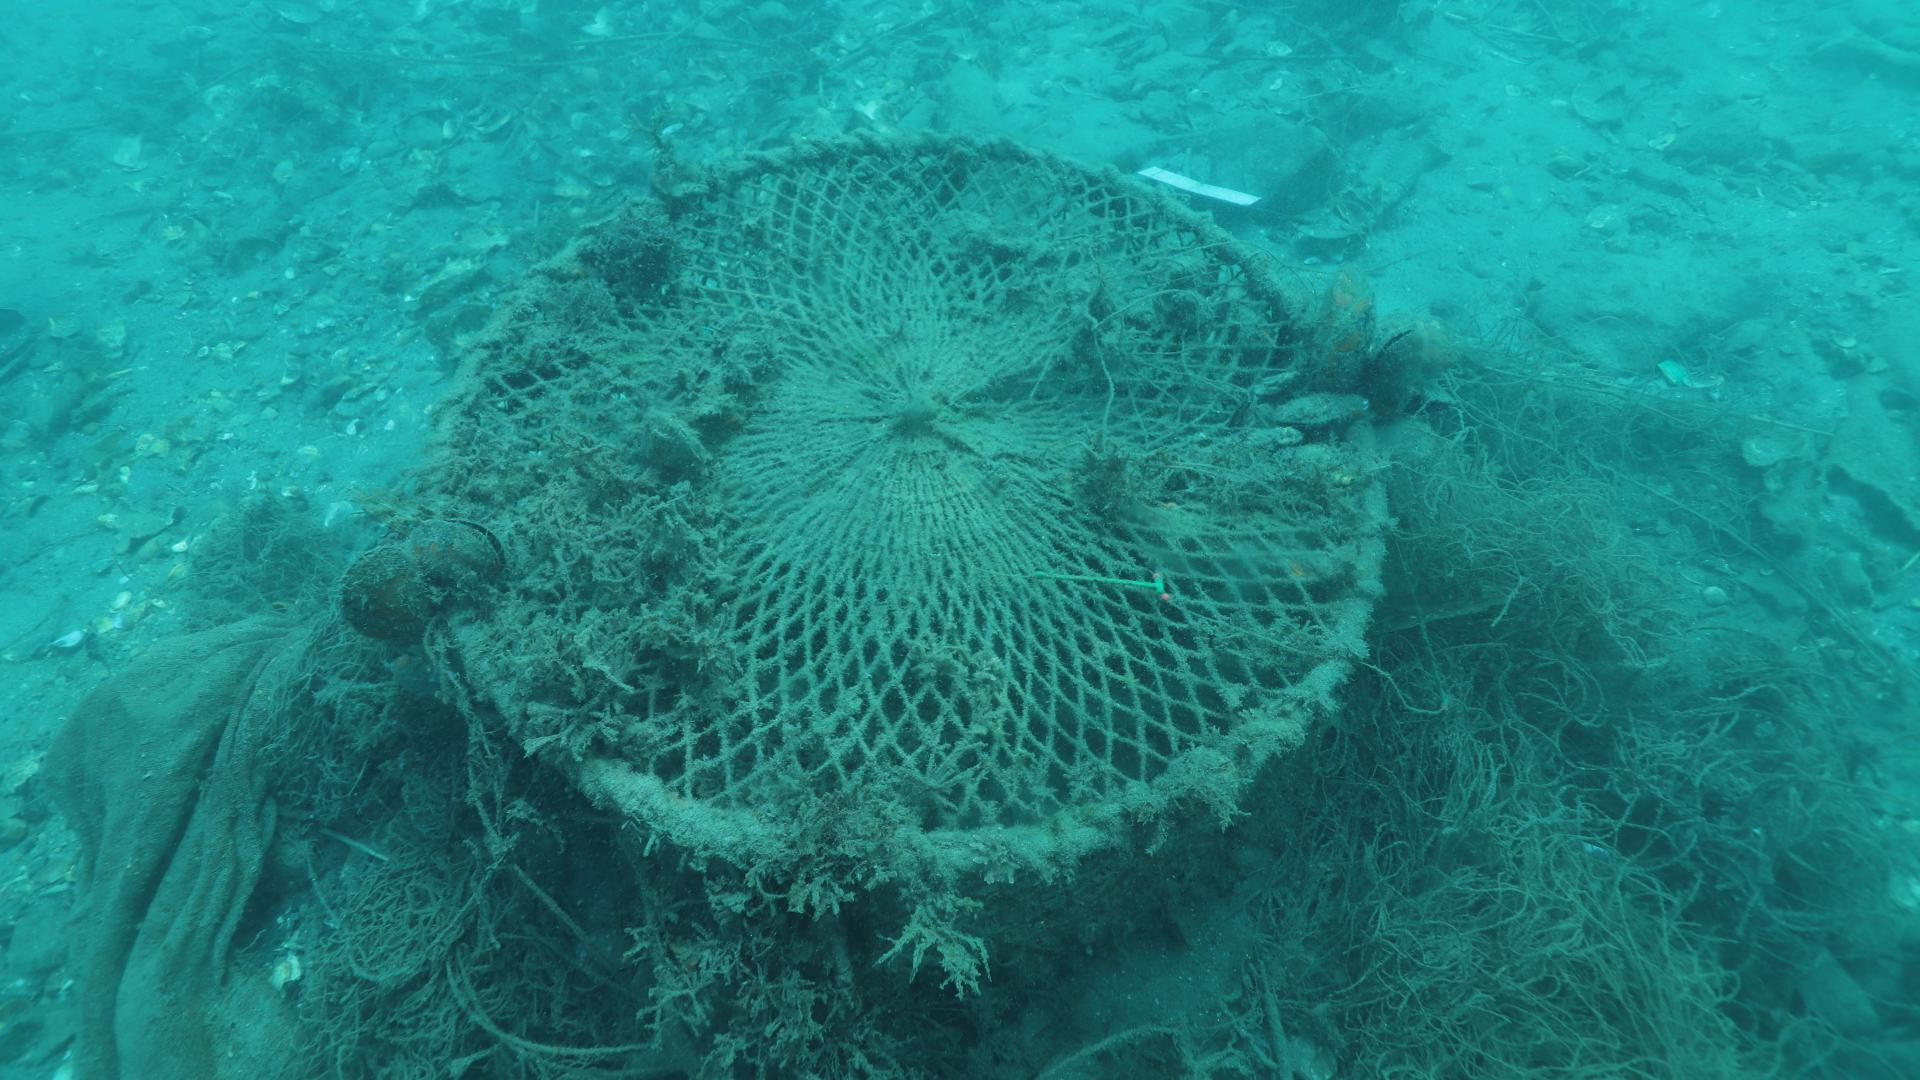circular fish trap: (419, 125, 1390, 997)
